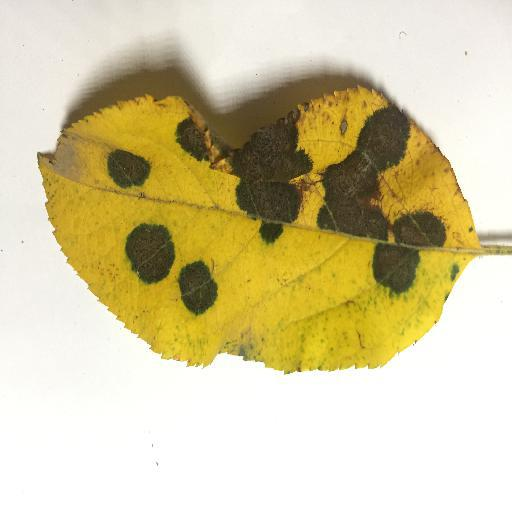Brown_Spot: (223, 123, 305, 250), (310, 113, 392, 240), (122, 218, 169, 280), (178, 119, 223, 169), (389, 205, 446, 244), (375, 241, 416, 288), (107, 146, 149, 187), (182, 266, 215, 311)
